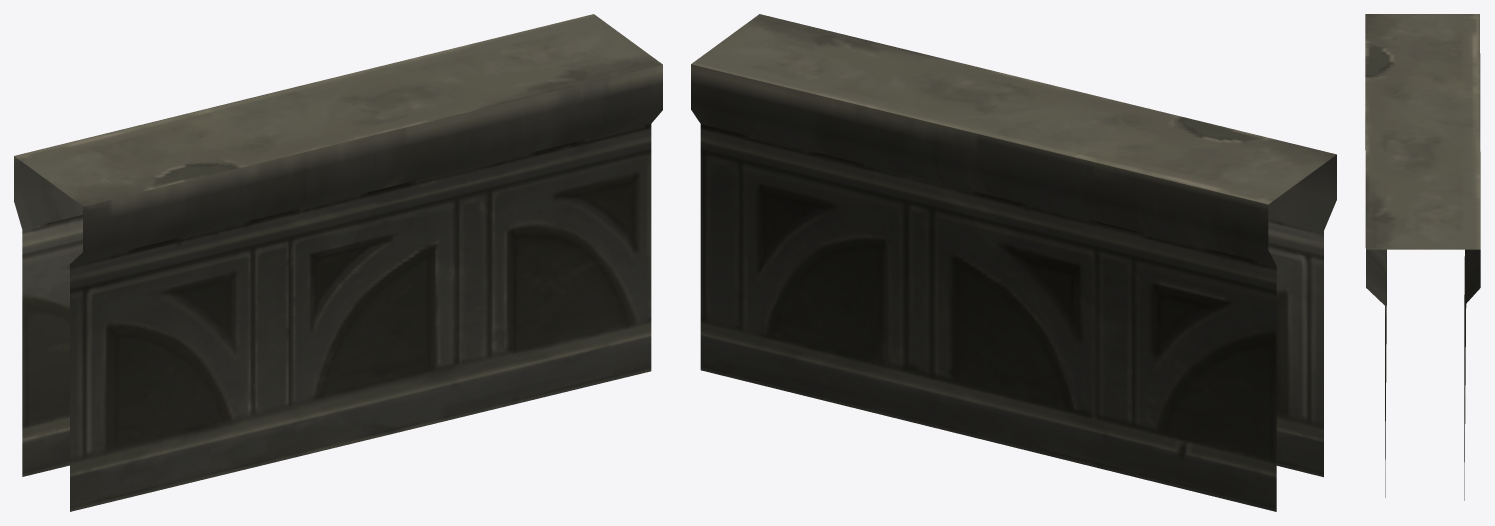
The model's file is Battle04_Cube_14.FBX.
The picture shows the model from 3 angles, left to right: view 1: azimuth 30°, elevation 25°; view 2: azimuth 150°, elevation 25°; view 3: azimuth 270°, elevation 25°; orthographic projection. The views are drawn at different scales.
Visible parts, largest first — view 1: Battle04_Cube_14; view 2: Battle04_Cube_14; view 3: Battle04_Cube_14.
Boxes of the visible parts, left/top/right/bottom form: Battle04_Cube_14: left=14, top=14, right=662, bottom=511; Battle04_Cube_14: left=691, top=14, right=1336, bottom=511; Battle04_Cube_14: left=1365, top=14, right=1480, bottom=500.
Size of the model in its own units: 5.74 by 2.98 by 1.19.
